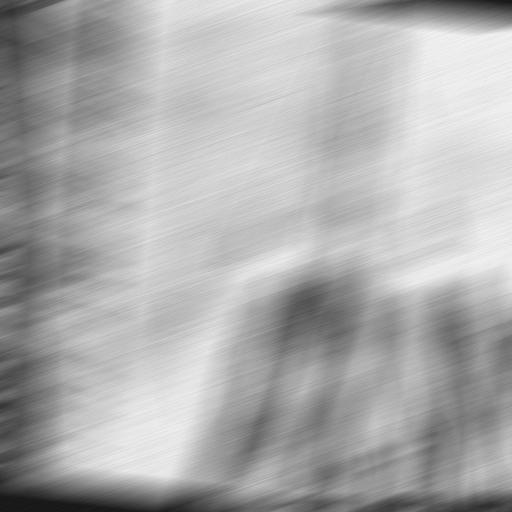boat: (159, 0, 512, 450)
